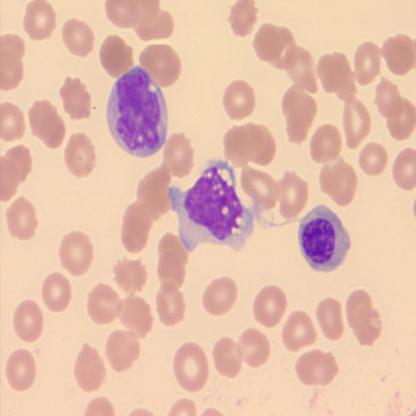NRC: (295, 202, 353, 276)
